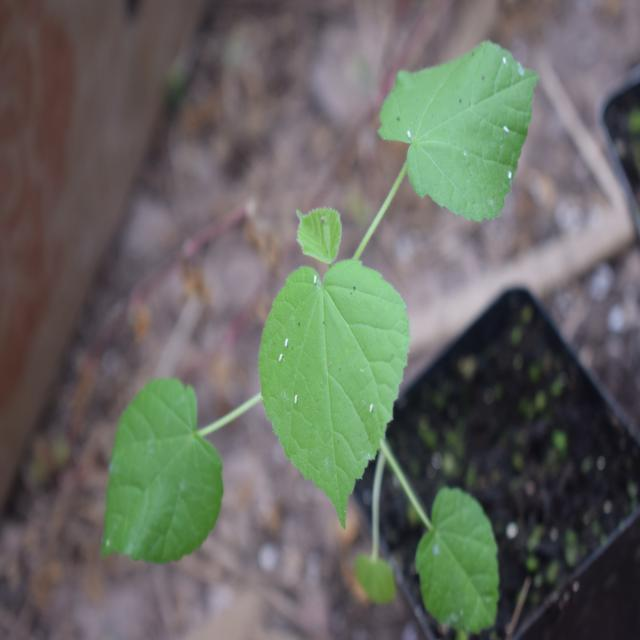abutilon theophrasti: (97, 38, 568, 605)
